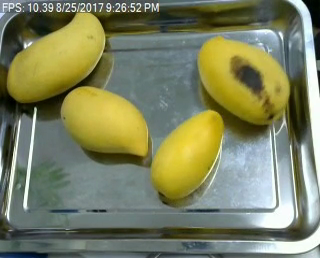Mango: (8, 8, 108, 105), (196, 36, 291, 122), (61, 85, 149, 162), (148, 110, 225, 196)
